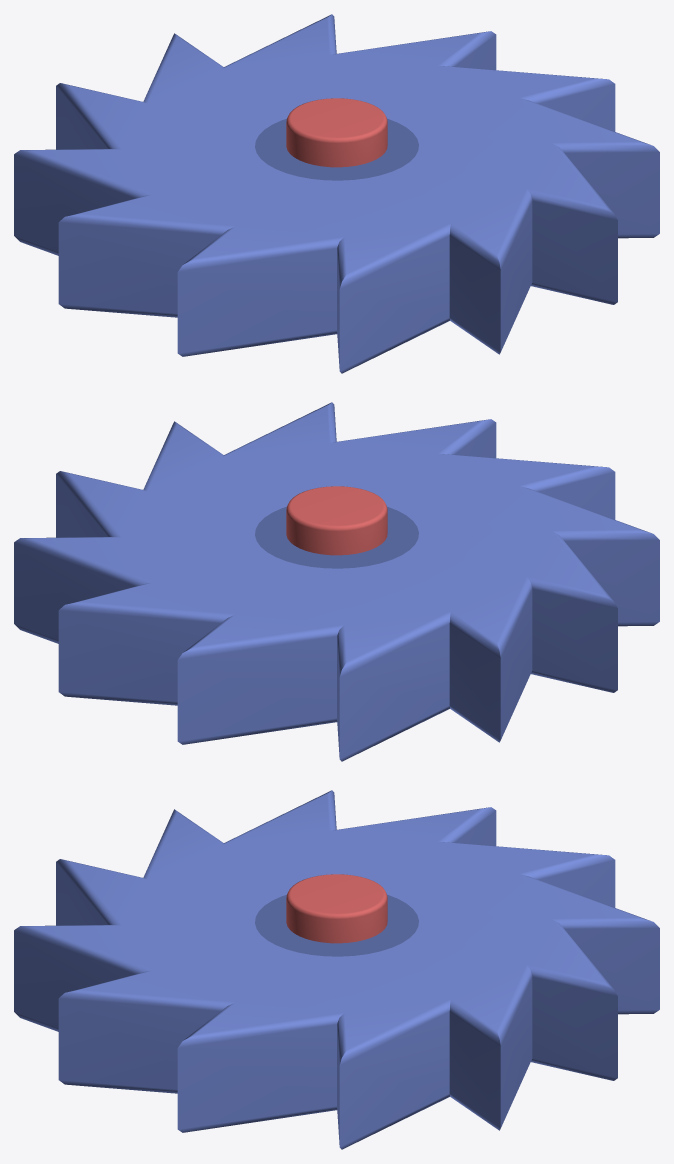
File: Gear.fbx
3 renders of one model, top to bottom at view 1: azimuth 30°, elevation 25°; view 2: azimuth 150°, elevation 25°; view 3: azimuth 270°, elevation 25°, orthographic.
Visible parts, largest first — view 1: Gear; view 2: Gear; view 3: Gear.
Part boxes in pixels (left/top/right/bottom): Gear: left=14, top=14, right=659, bottom=373; Gear: left=14, top=402, right=659, bottom=761; Gear: left=14, top=790, right=659, bottom=1149.
Size of the model in its own units: 286 by 60.66 by 286.
